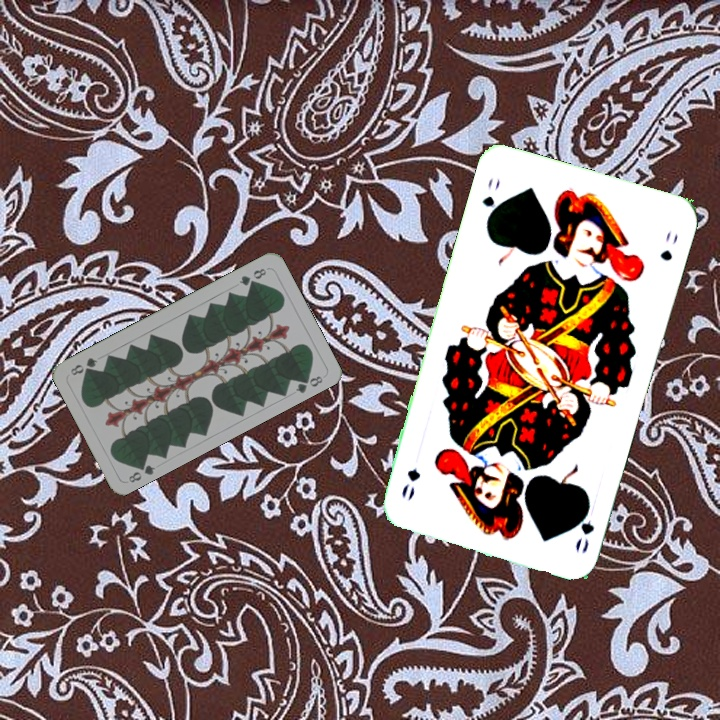G8: (124, 457, 158, 485), (235, 264, 269, 288)
GO: (571, 497, 597, 556), (478, 175, 503, 227)
